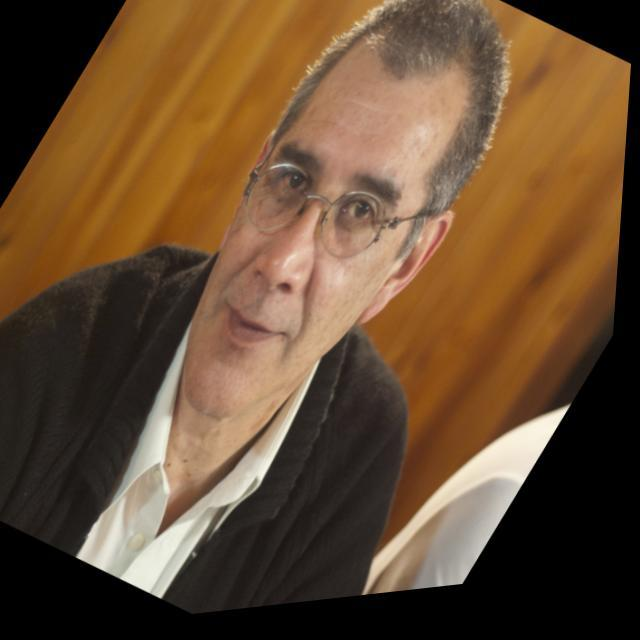Nonhelmet: (176, 0, 513, 417)
